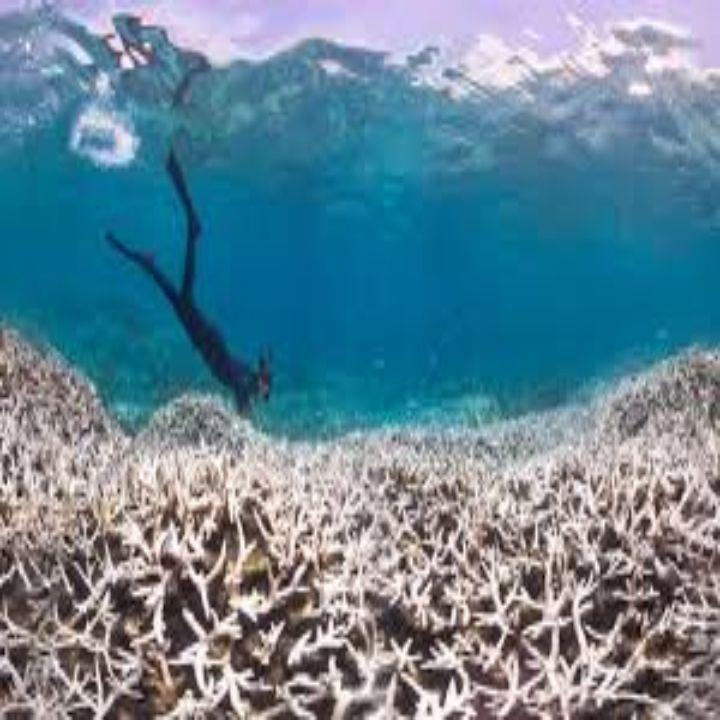Bleached disease: (22, 422, 696, 708)
